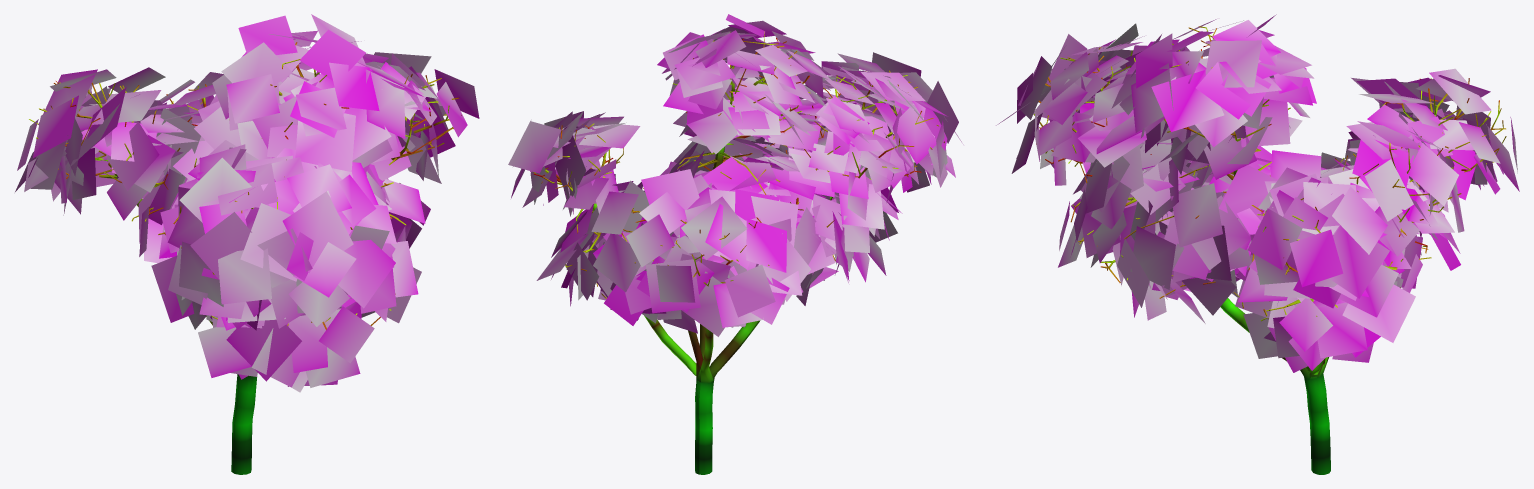
Rendered from Tree_A3.fbx.
3 renders of one model, left to right at view 1: azimuth 30°, elevation 25°; view 2: azimuth 150°, elevation 25°; view 3: azimuth 270°, elevation 25°, orthographic. The views are drawn at different scales.
Parts seen in each view (by area): view 1: Tree_A3_LOD0; view 2: Tree_A3_LOD0; view 3: Tree_A3_LOD0.
Part boxes in pixels (x1,y1,x2,y2): Tree_A3_LOD0: [15, 14, 479, 474]; Tree_A3_LOD0: [508, 14, 963, 474]; Tree_A3_LOD0: [996, 14, 1519, 474].
Size of what is drawn, in the model's own units: 11.95 by 13.51 by 14.2.
